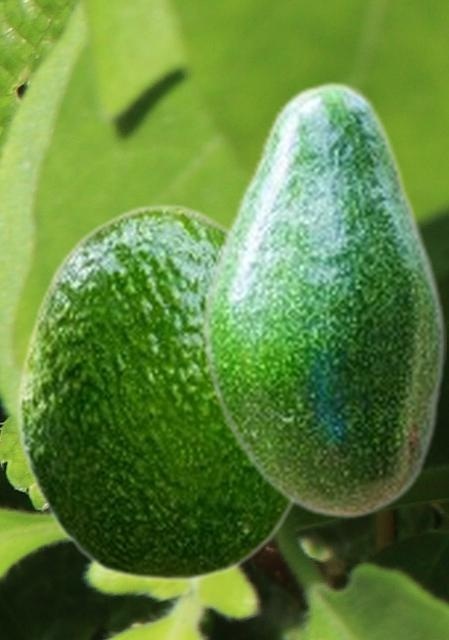avocado: (200, 80, 445, 519), (17, 203, 298, 581)
